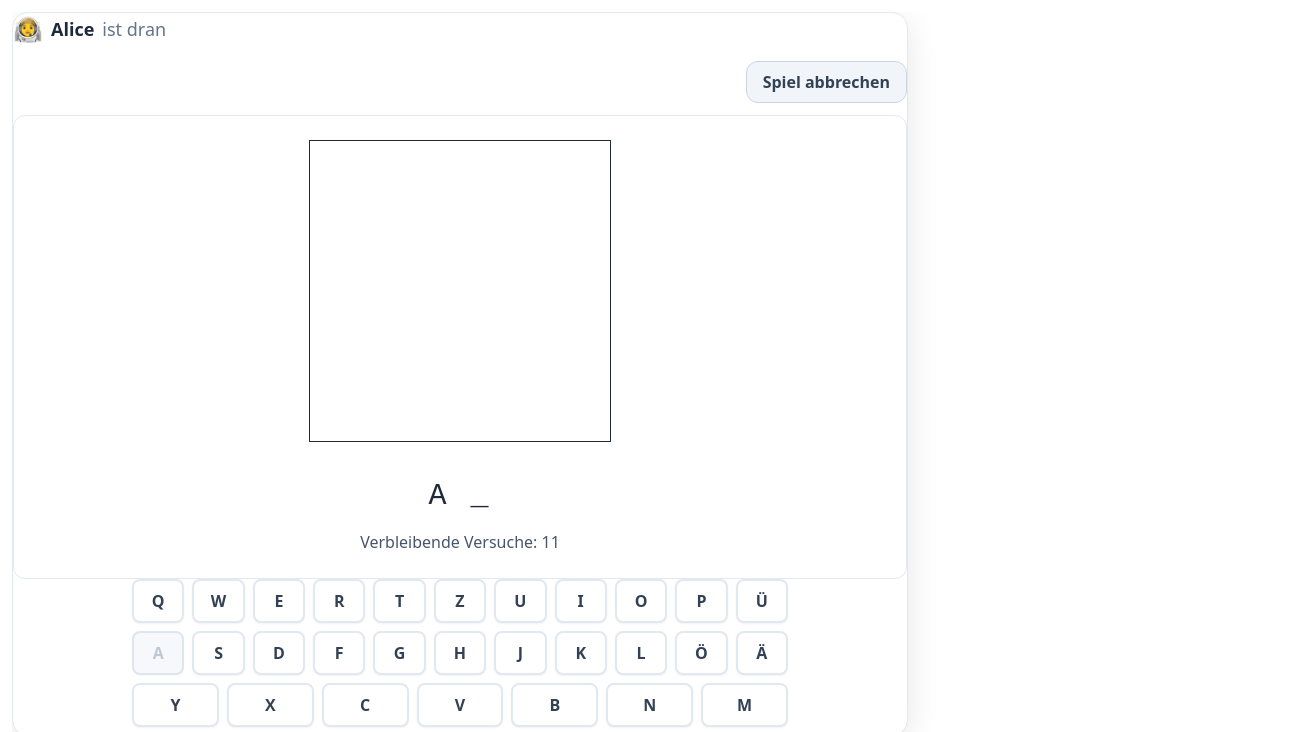
Test: MultiplayerGame overlay and flow › shows win when guessing last missing letter
Note: Guess B correctly to win
Click the button named "Buchstabe B": (555, 705) [511,683,598,727]
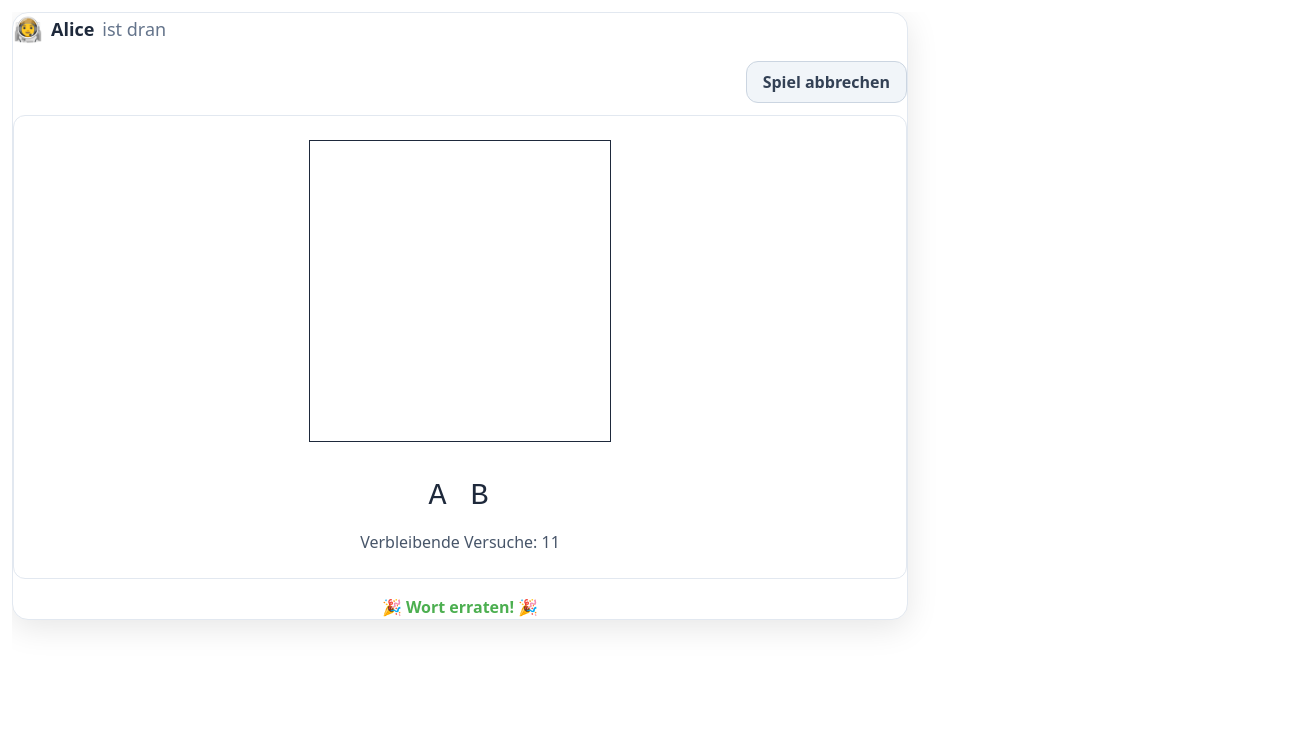
Now the text "🎉 Wort erraten! 🎉" is shown, box [382,596,538,618]
